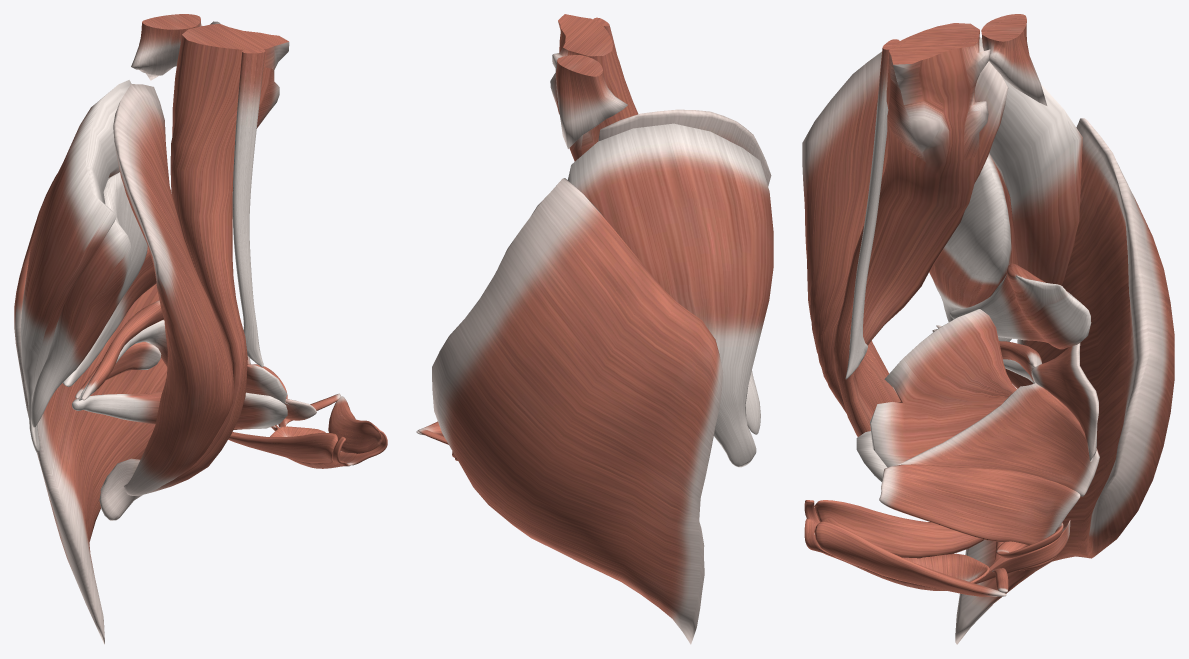
File: open3d-pelvicfloor-muscular-01.glb
The picture shows the model from 3 angles, left to right: view 1: azimuth 30°, elevation 25°; view 2: azimuth 150°, elevation 25°; view 3: azimuth 270°, elevation 25°; orthographic projection. The views are drawn at different scales.
Visible parts, largest first — view 1: O3D_fdf2d8c3115e47, O3D_fbb6006723fc44, O3D_c9041d01e3b7cc, O3D_8cb46e7a6c870d, O3D_b33a9843b7c624, O3D_704d9ee0486be5, O3D_c2b44ea5fe2c1c, O3D_048dc3b5bfabc3, O3D_d7fa48c18d0e7a, O3D_1d1fe1a84a5eaf, O3D_991624e4f9d0d1, O3D_71d28352d7058a (+3 smaller); view 2: O3D_c9041d01e3b7cc, O3D_8cb46e7a6c870d, O3D_d7fa48c18d0e7a, O3D_fdf2d8c3115e47, O3D_fbb6006723fc44, O3D_b33a9843b7c624; view 3: O3D_c9041d01e3b7cc, O3D_fdf2d8c3115e47, O3D_fbb6006723fc44, O3D_1d1fe1a84a5eaf, O3D_8cb46e7a6c870d, O3D_fb0fb6aae5279c, O3D_9572d7a66f2925, O3D_c2b44ea5fe2c1c, O3D_b33a9843b7c624, O3D_991624e4f9d0d1, O3D_704d9ee0486be5, O3D_c858e72988f0fd (+6 smaller).
Boxes of the visible parts, x1,y1,x2,y2 form: O3D_fdf2d8c3115e47: (99, 21, 289, 520); O3D_fbb6006723fc44: (113, 84, 234, 495); O3D_c9041d01e3b7cc: (14, 173, 171, 644); O3D_8cb46e7a6c870d: (20, 80, 131, 453); O3D_b33a9843b7c624: (31, 172, 147, 427); O3D_704d9ee0486be5: (232, 49, 265, 367); O3D_c2b44ea5fe2c1c: (228, 396, 381, 463); O3D_048dc3b5bfabc3: (72, 390, 287, 429); O3D_d7fa48c18d0e7a: (131, 14, 202, 80); O3D_1d1fe1a84a5eaf: (78, 320, 287, 403); O3D_991624e4f9d0d1: (63, 246, 156, 386); O3D_71d28352d7058a: (81, 300, 163, 400); O3D_c9041d01e3b7cc: (432, 178, 723, 644); O3D_8cb46e7a6c870d: (568, 123, 773, 467); O3D_d7fa48c18d0e7a: (555, 55, 627, 148); O3D_fdf2d8c3115e47: (550, 14, 638, 161); O3D_fbb6006723fc44: (598, 109, 771, 186); O3D_b33a9843b7c624: (745, 370, 760, 434); O3D_c9041d01e3b7cc: (955, 118, 1174, 644); O3D_fdf2d8c3115e47: (833, 23, 990, 436); O3D_fbb6006723fc44: (802, 46, 1008, 413); O3D_1d1fe1a84a5eaf: (870, 309, 1034, 467); O3D_8cb46e7a6c870d: (979, 37, 1082, 341); O3D_fb0fb6aae5279c: (879, 464, 1080, 545); O3D_9572d7a66f2925: (896, 383, 1099, 496); O3D_c2b44ea5fe2c1c: (814, 500, 1006, 596); O3D_b33a9843b7c624: (929, 153, 1011, 322); O3D_991624e4f9d0d1: (950, 263, 1091, 349); O3D_704d9ee0486be5: (845, 39, 899, 379); O3D_c858e72988f0fd: (1031, 343, 1098, 461).
Size of the model in its own units: 0.1875 by 0.3161 by 0.1599.
Materials: 5 (5 with a texture image).
